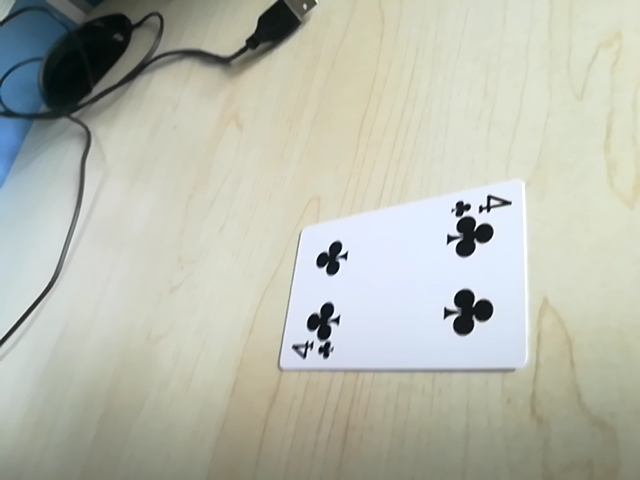mh 4: (452, 189, 514, 218), (285, 334, 338, 366)
